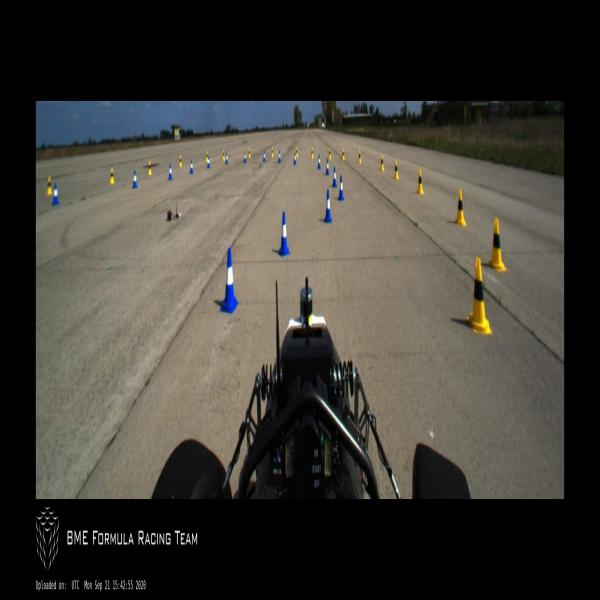blue_cone: (220, 248, 238, 313), (278, 213, 290, 255), (324, 190, 332, 222), (338, 175, 344, 200), (52, 184, 58, 204), (332, 167, 337, 187), (133, 171, 137, 188), (326, 159, 329, 175), (169, 164, 172, 180), (190, 160, 193, 174), (278, 151, 281, 163), (207, 156, 210, 168), (225, 153, 228, 164), (318, 155, 320, 169), (294, 153, 296, 164), (263, 151, 265, 162), (244, 152, 246, 162)
yellow_cone: (467, 259, 491, 333), (488, 219, 506, 271), (455, 190, 465, 225), (417, 169, 424, 194), (47, 177, 52, 194), (394, 160, 398, 180), (380, 154, 384, 171), (110, 168, 114, 184), (358, 150, 361, 164), (148, 162, 151, 175), (342, 148, 345, 161), (311, 147, 314, 159), (179, 156, 182, 167), (296, 147, 298, 159), (329, 148, 331, 160), (272, 147, 274, 158), (206, 152, 208, 162), (222, 150, 224, 160), (248, 148, 250, 158)
